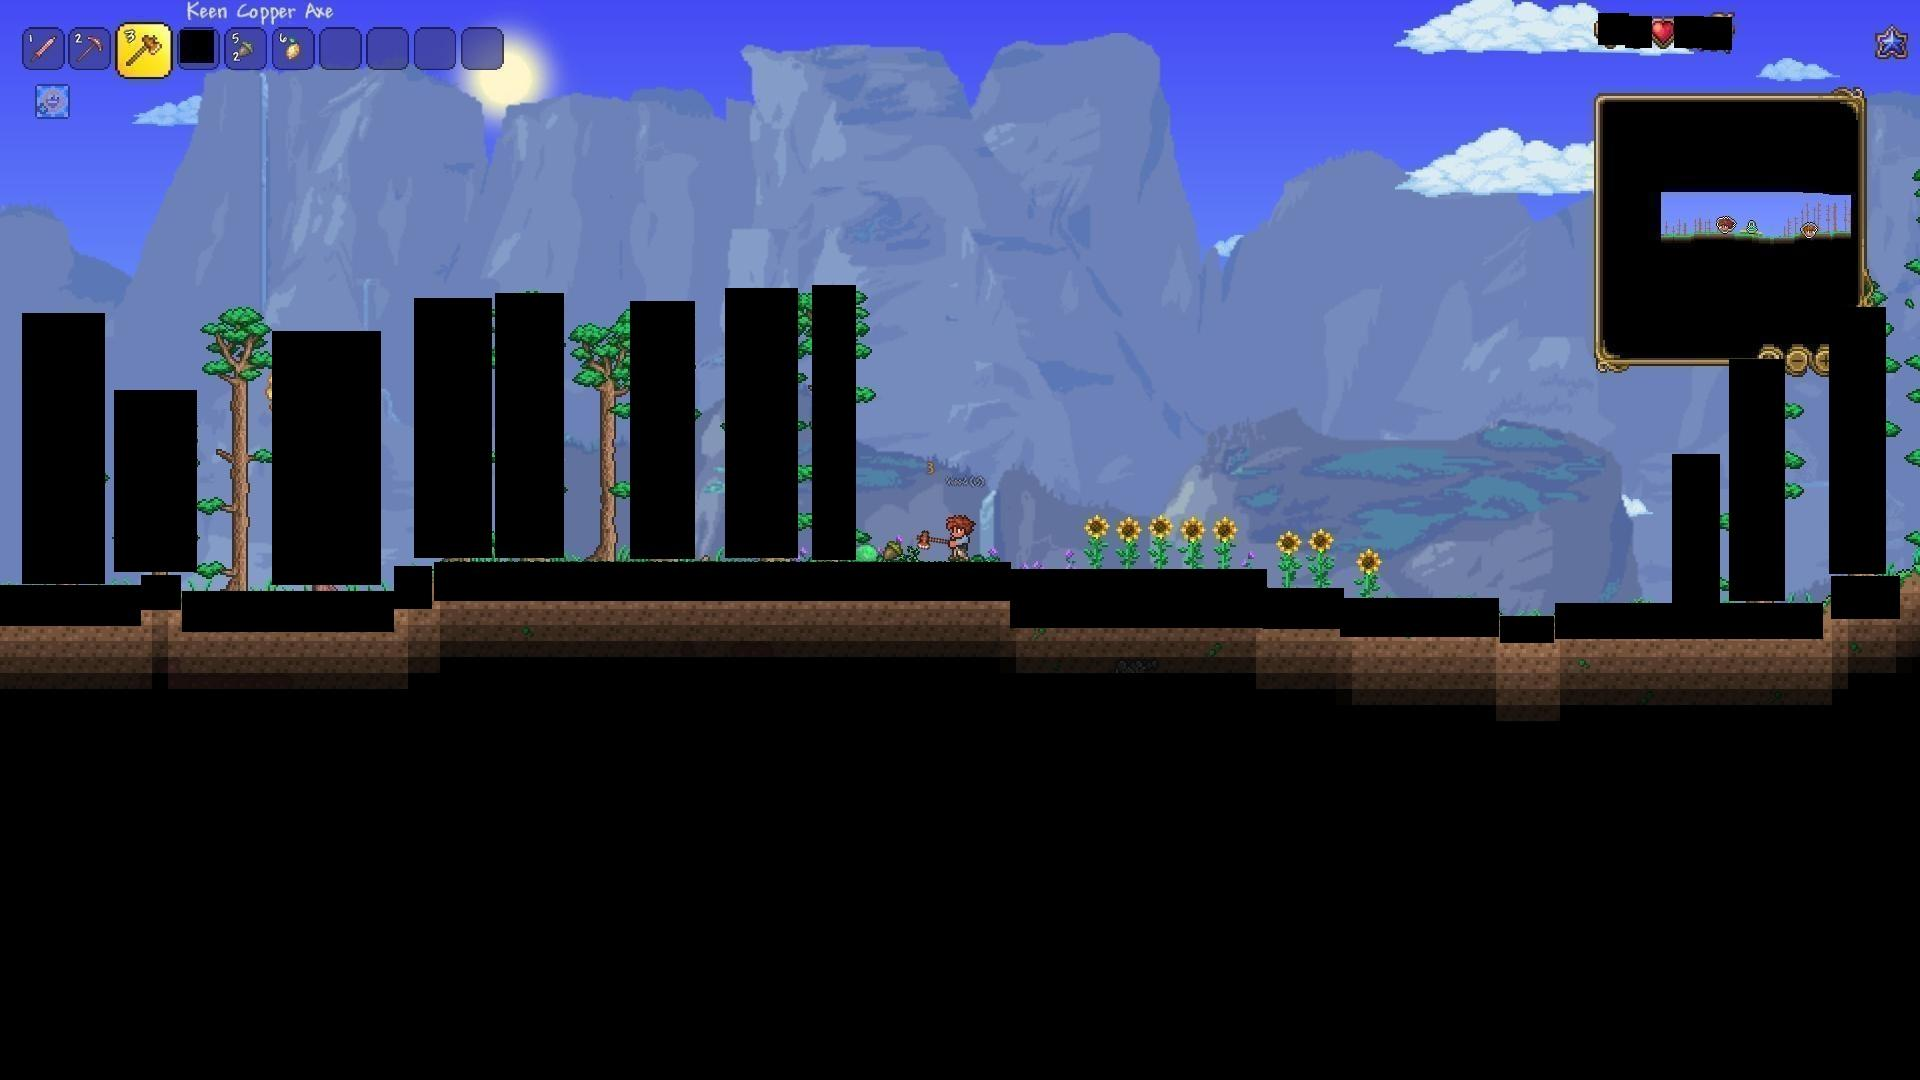heart: (1648, 17, 1675, 47)
slime: (852, 545, 877, 572)
tree: (199, 301, 269, 585), (571, 326, 625, 555)
